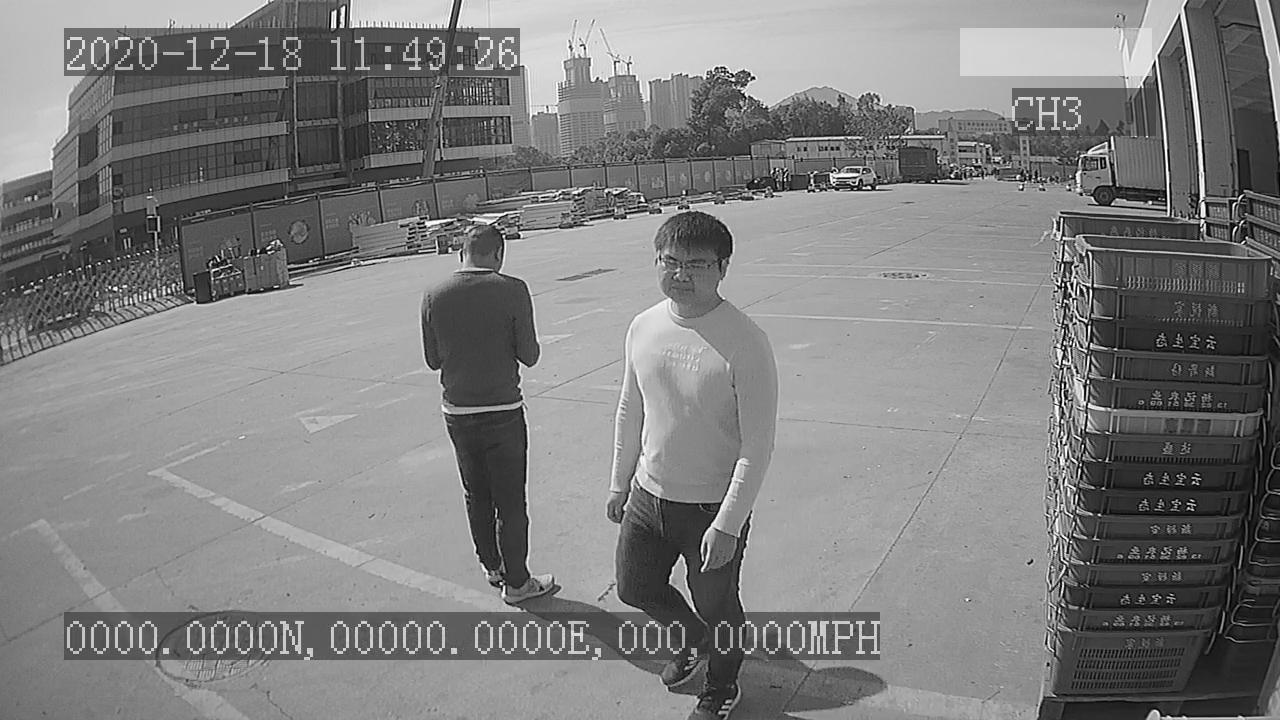person: (415, 222, 560, 608)
